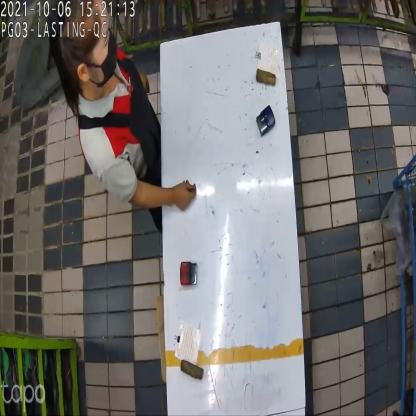stamp: (257, 103, 276, 136), (180, 258, 198, 288)
